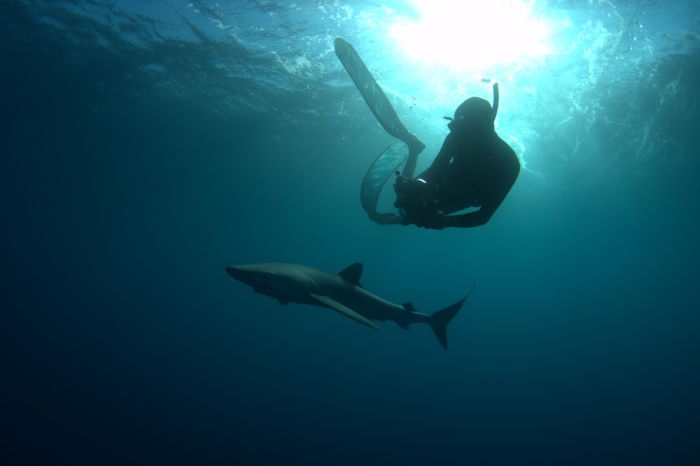Azul: (221, 251, 480, 365)
